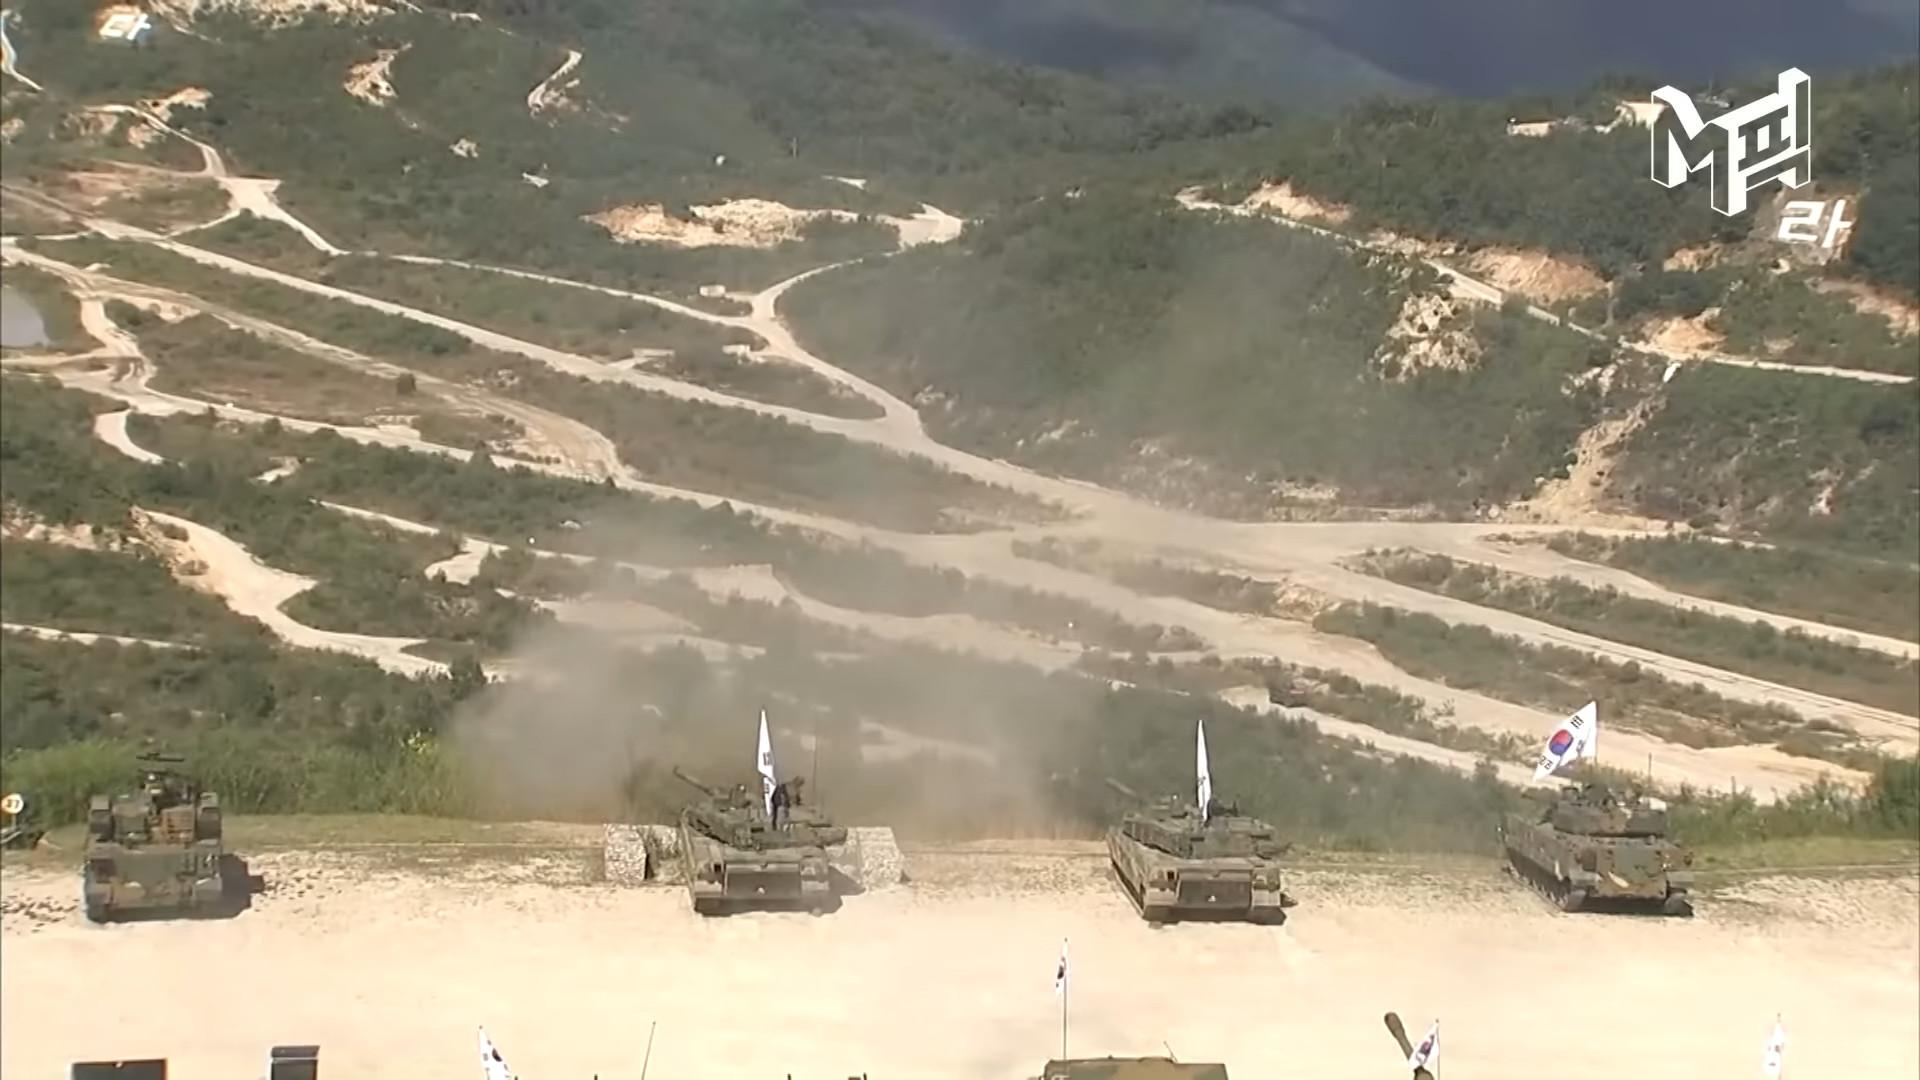tank: (1104, 777, 1291, 922), (1502, 779, 1696, 913), (674, 767, 848, 914), (84, 769, 224, 923)
